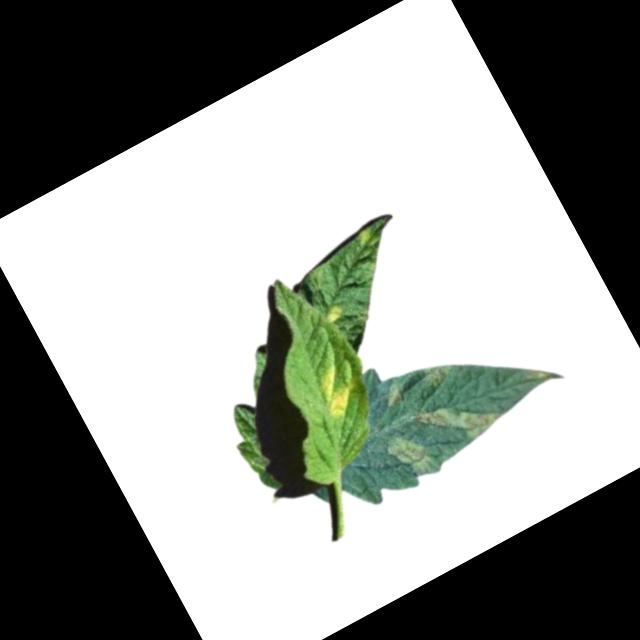Leaf_Mold: (411, 374, 508, 460), (382, 426, 437, 486), (308, 364, 356, 420), (417, 352, 458, 391), (380, 385, 407, 412), (321, 302, 347, 326)
